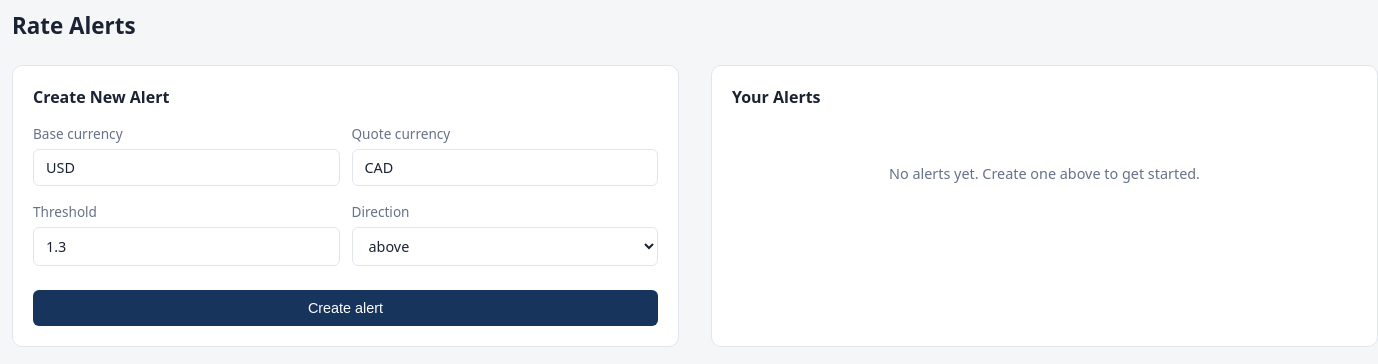
Test case: AlertsPanel › creating alerts › adds created alert to list and restores the default form on success
Replace the text in the field labelled "Base currency" with "usd" at (186, 168), box [33,149,340,186]
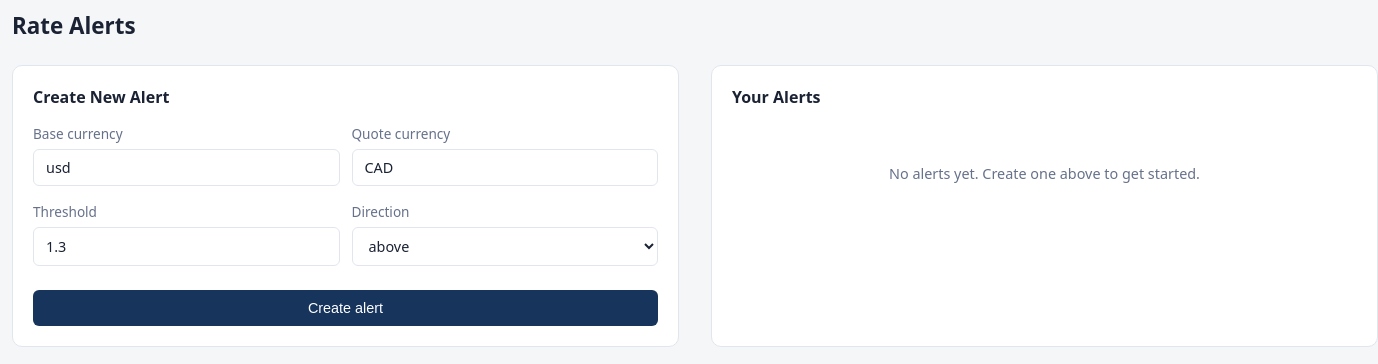
Type "cad" into the field labelled "Quote currency" at (505, 168), box [352,149,658,186]
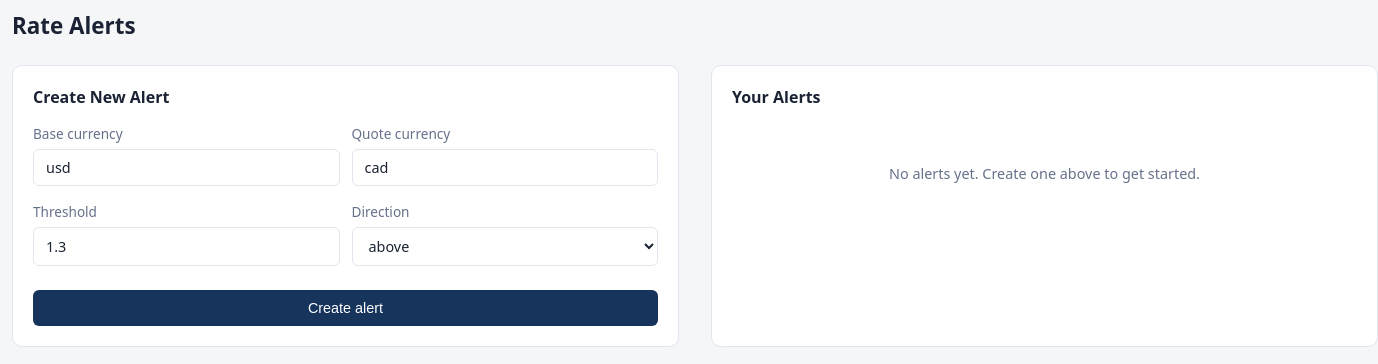
Replace the text in the number field labelled "Threshold" with "1.35" at (186, 246), box [33,227,340,266]
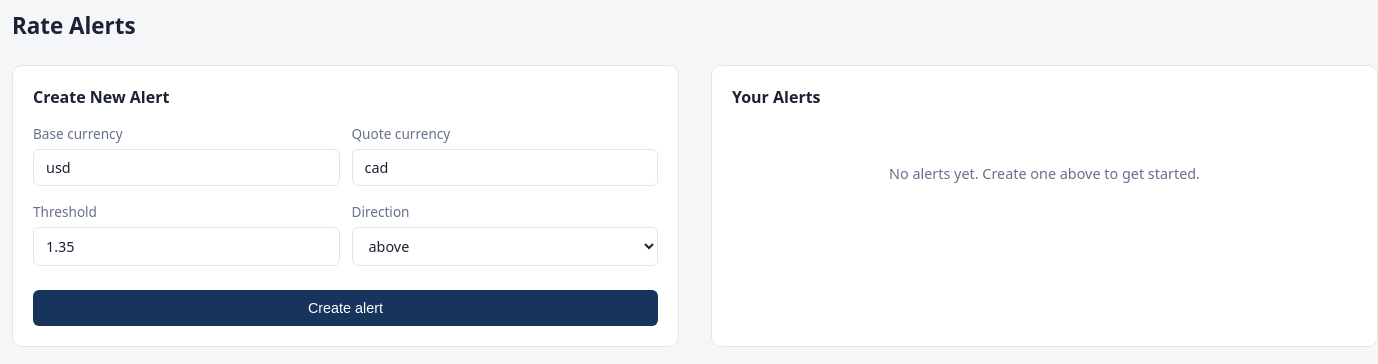
Submit the form, box [33,124,658,326]
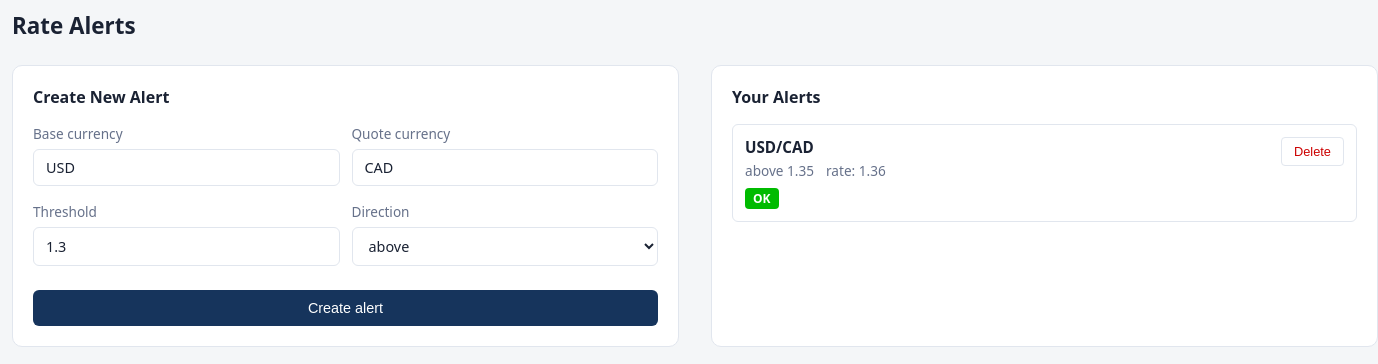
Now the text "USD/CAD" is shown, box [745,137,814,157]
Now the number field labelled "Threshold" holds "1.3", box [33,227,340,266]
